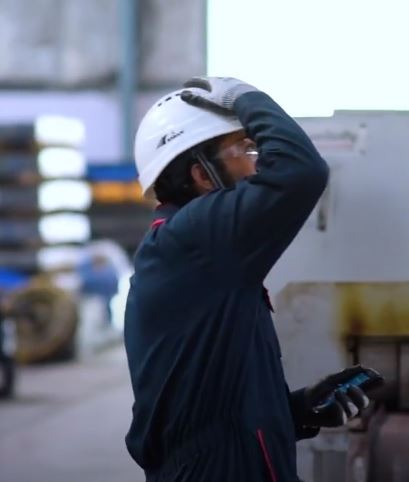Safety Helmet: (121, 75, 280, 234)
